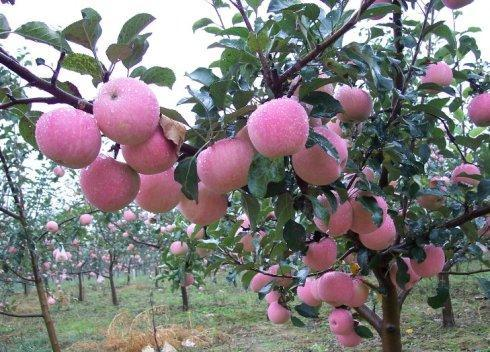apple: (95, 77, 161, 142), (35, 105, 101, 169), (79, 152, 140, 213), (248, 97, 309, 158), (194, 136, 257, 190), (290, 123, 347, 182), (122, 126, 180, 173), (137, 168, 184, 213), (313, 189, 353, 235), (347, 189, 387, 235), (334, 84, 372, 121), (360, 214, 397, 249), (318, 272, 355, 307), (421, 60, 452, 87), (467, 90, 490, 125), (451, 163, 481, 184)
